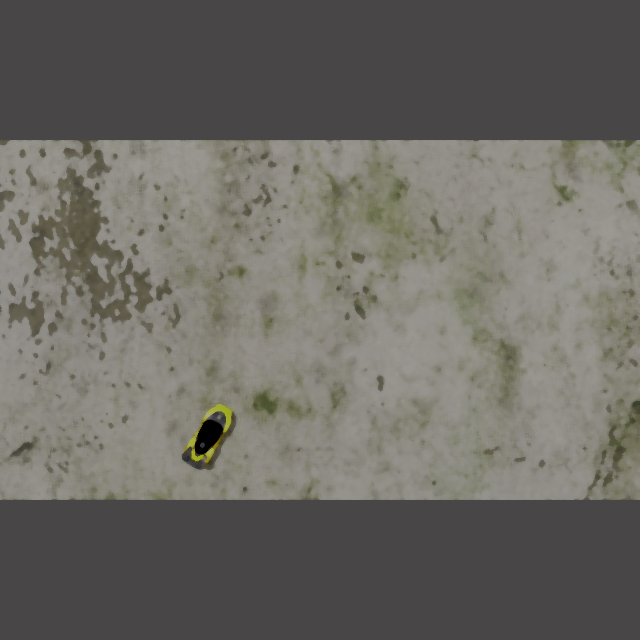car: (176, 398, 239, 474)
